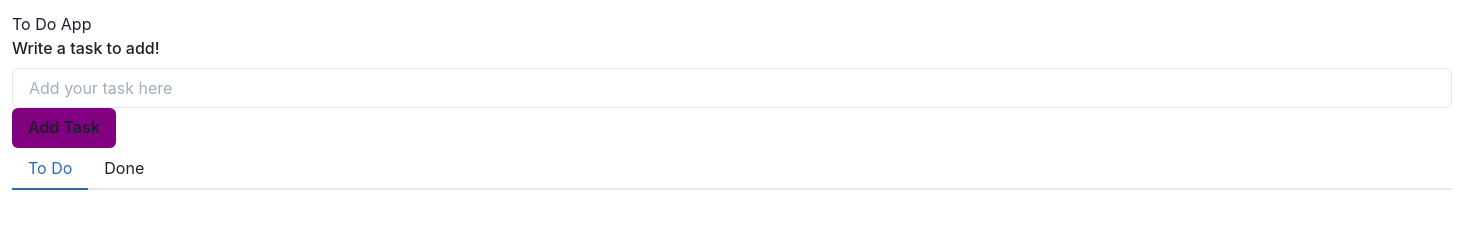
App › should move a to do task towards done task list when clicked
This screenshot has width=1464, height=245.
In the field with placeholder "Add your task here": (732, 88) x1=12 y1=68 x2=1452 y2=108, type "clean"
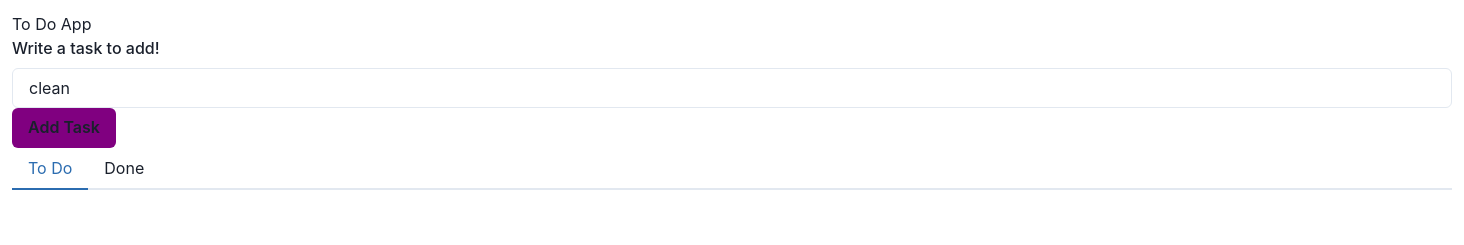
Click the button "Add Task": (64, 128) x1=12 y1=108 x2=116 y2=148
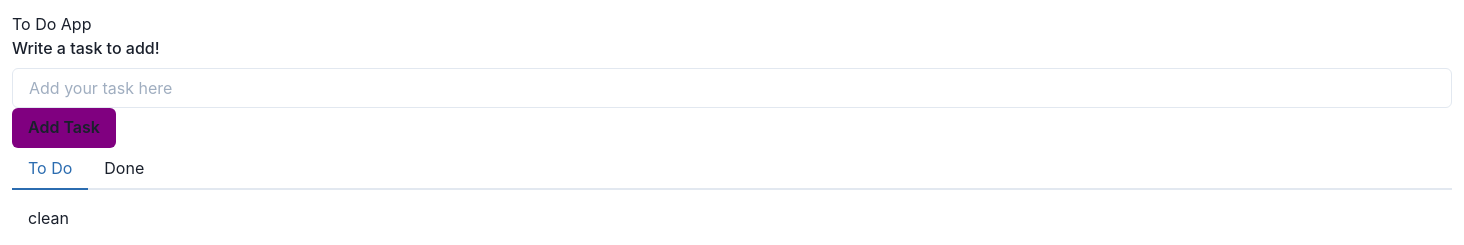
Expected: the list item "clean" is shown
Click the list item "clean": (48, 218) x1=28 y1=208 x2=69 y2=228
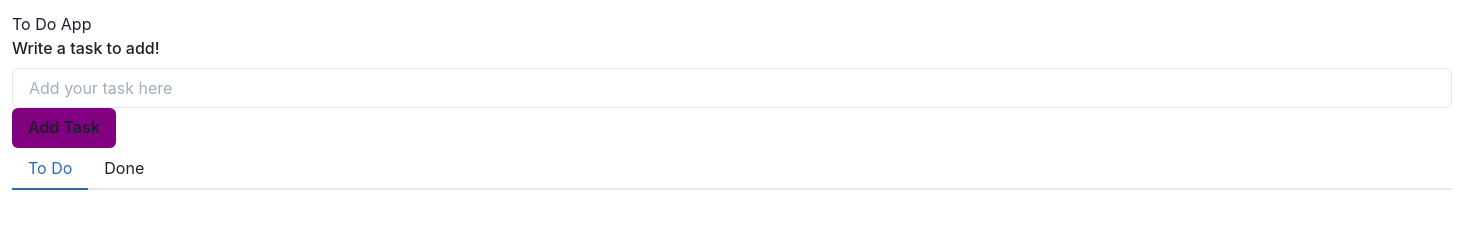
Expected: the list item "clean" is gone
Click the tab "Done": (124, 169) x1=88 y1=148 x2=160 y2=190
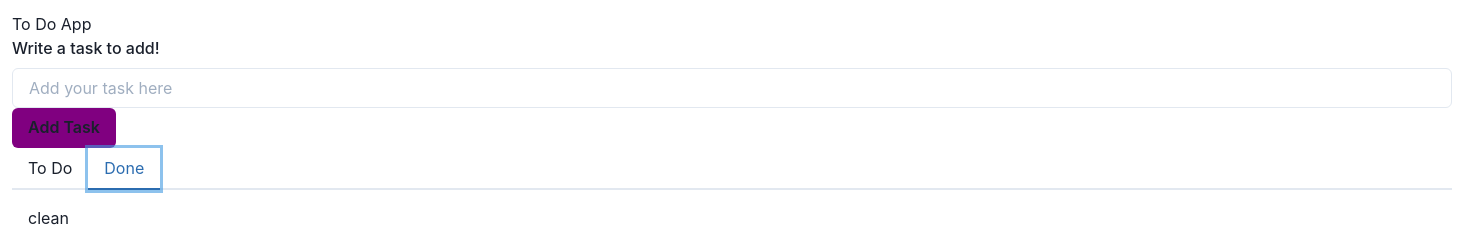
Expected: the list item "clean" is shown, x1=28 y1=208 x2=69 y2=228
